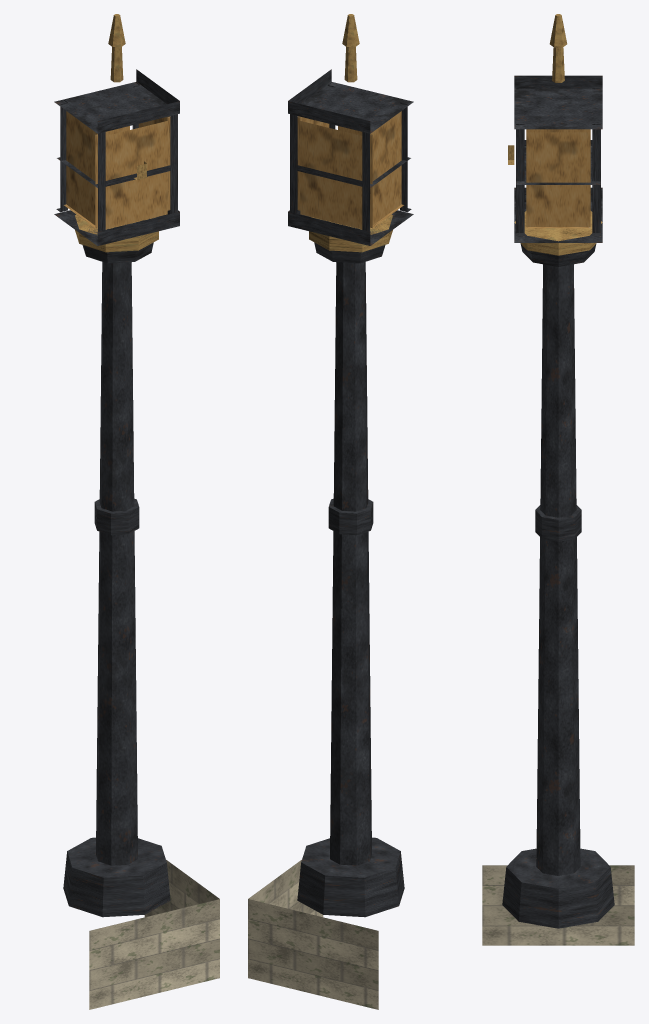
The model's file is prop_haven_lamp_a.glb.
3 views of the same model, side by side, from view 1: azimuth 30°, elevation 25°; view 2: azimuth 150°, elevation 25°; view 3: azimuth 270°, elevation 25° (orthographic).
Visible parts, largest first — view 1: prop_haven_lamp_a; view 2: prop_haven_lamp_a; view 3: prop_haven_lamp_a.
Boxes of the visible parts, x1,y1,x2,y2 form: prop_haven_lamp_a: (54, 14, 219, 1009); prop_haven_lamp_a: (248, 14, 413, 1009); prop_haven_lamp_a: (482, 14, 634, 945).
Size of the model in its own units: 0.38 by 2.64 by 0.38.
Materials: 1 (1 with a texture image).
